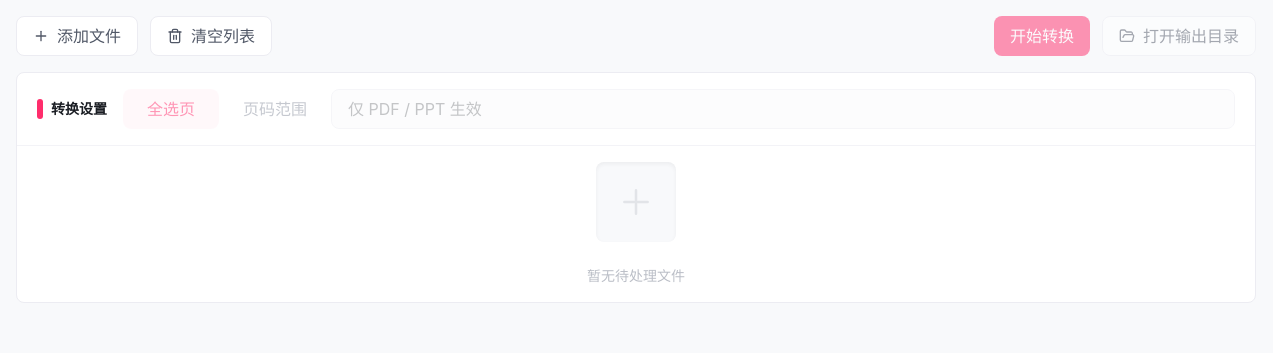
ConvertImagePage › imports files and folders from the single add-file button
What coordinates should you click on to do the following:
click the button "添加文件"
I would click on:
 (77, 36)
Its box is 16,16 -> 138,56.
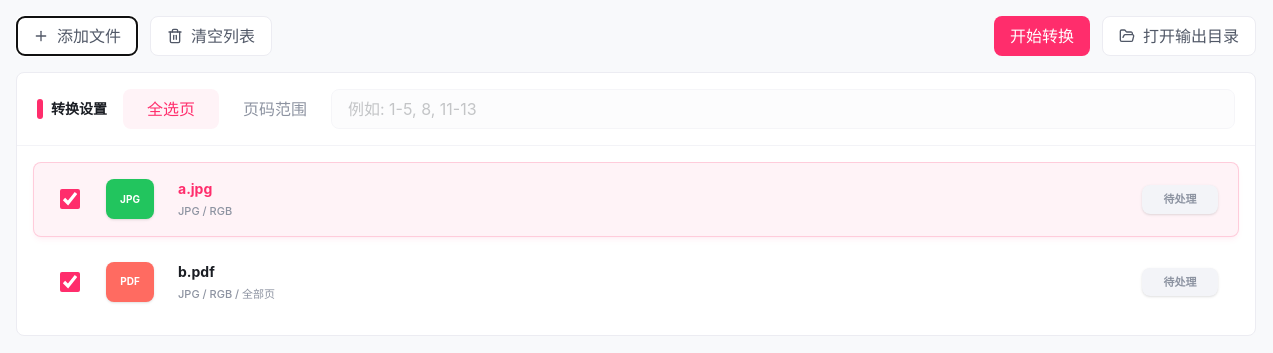
Now the text "a.jpg" is shown, box 178,180 -> 212,197
Now the text "b.pdf" is shown, box 178,262 -> 215,280
Now the number of checkboxes is 2, box 60,189 -> 80,209; 60,272 -> 80,292
